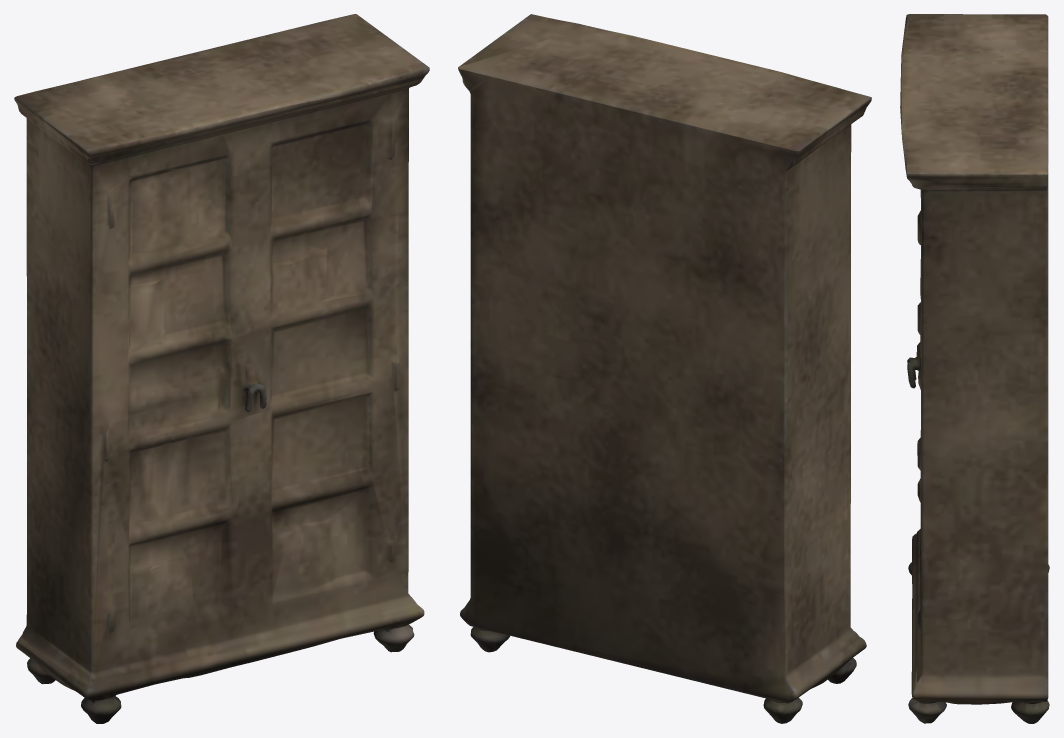
File: rustic-wood-bookcase-v002.glb
3 views of the same model, side by side, from view 1: azimuth 30°, elevation 25°; view 2: azimuth 150°, elevation 25°; view 3: azimuth 270°, elevation 25° (orthographic). The views are drawn at different scales.
Visible parts, largest first — view 1: rustic-wood-bookcase; view 2: rustic-wood-bookcase; view 3: rustic-wood-bookcase.
Boxes of the visible parts, x1,y1,x2,y2 form: rustic-wood-bookcase: (14, 14, 429, 723); rustic-wood-bookcase: (458, 14, 871, 723); rustic-wood-bookcase: (900, 14, 1049, 723).
Size of the model in its own units: 1.2 by 1.96 by 0.4737.
Materials: 1 (1 with a texture image).
